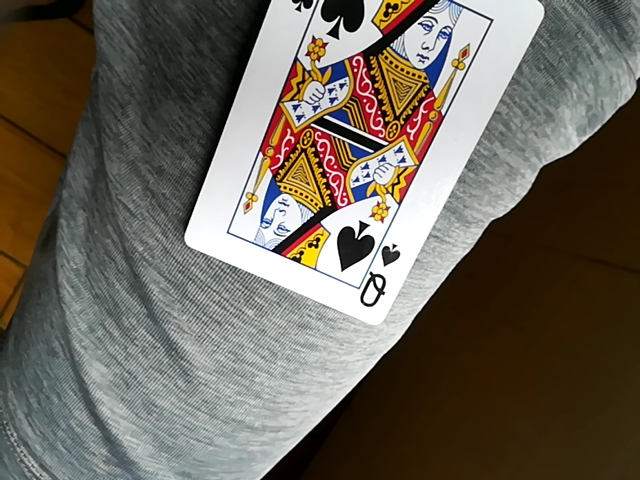ht q: (186, 3, 552, 329)
